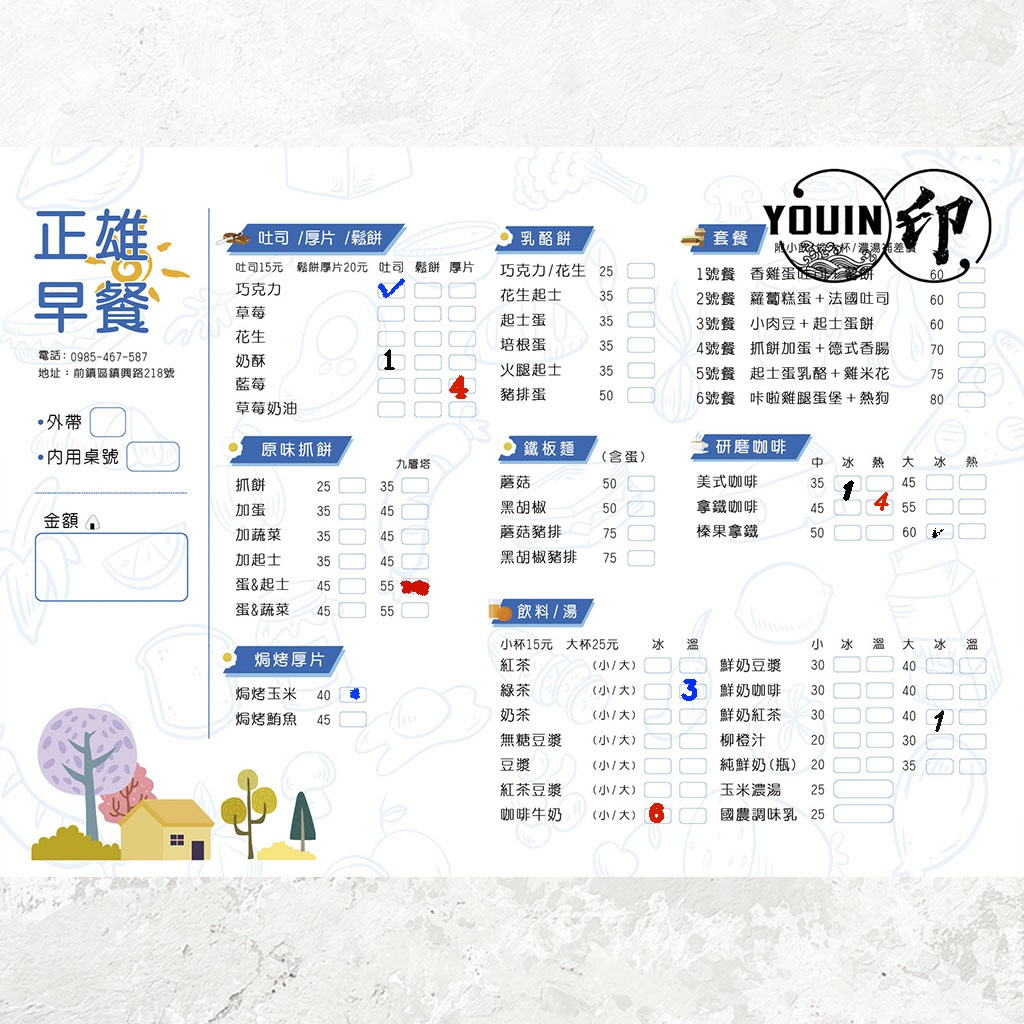marked_circle: (340, 686, 366, 700)
marked_number_1: (378, 353, 404, 367), (833, 476, 859, 490), (926, 711, 952, 725)
marked_number_3: (678, 686, 704, 700)
marked_number_4: (866, 499, 892, 513), (448, 378, 474, 392)
marked_number_6: (644, 807, 670, 821)
marked_tick: (377, 282, 403, 296), (926, 522, 952, 536)
marked_x: (400, 579, 426, 593)
